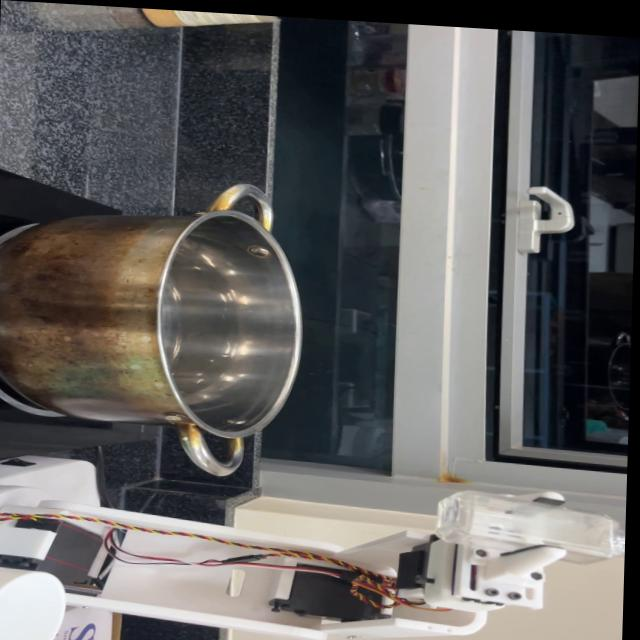cooking_pot: (0, 170, 309, 473)
